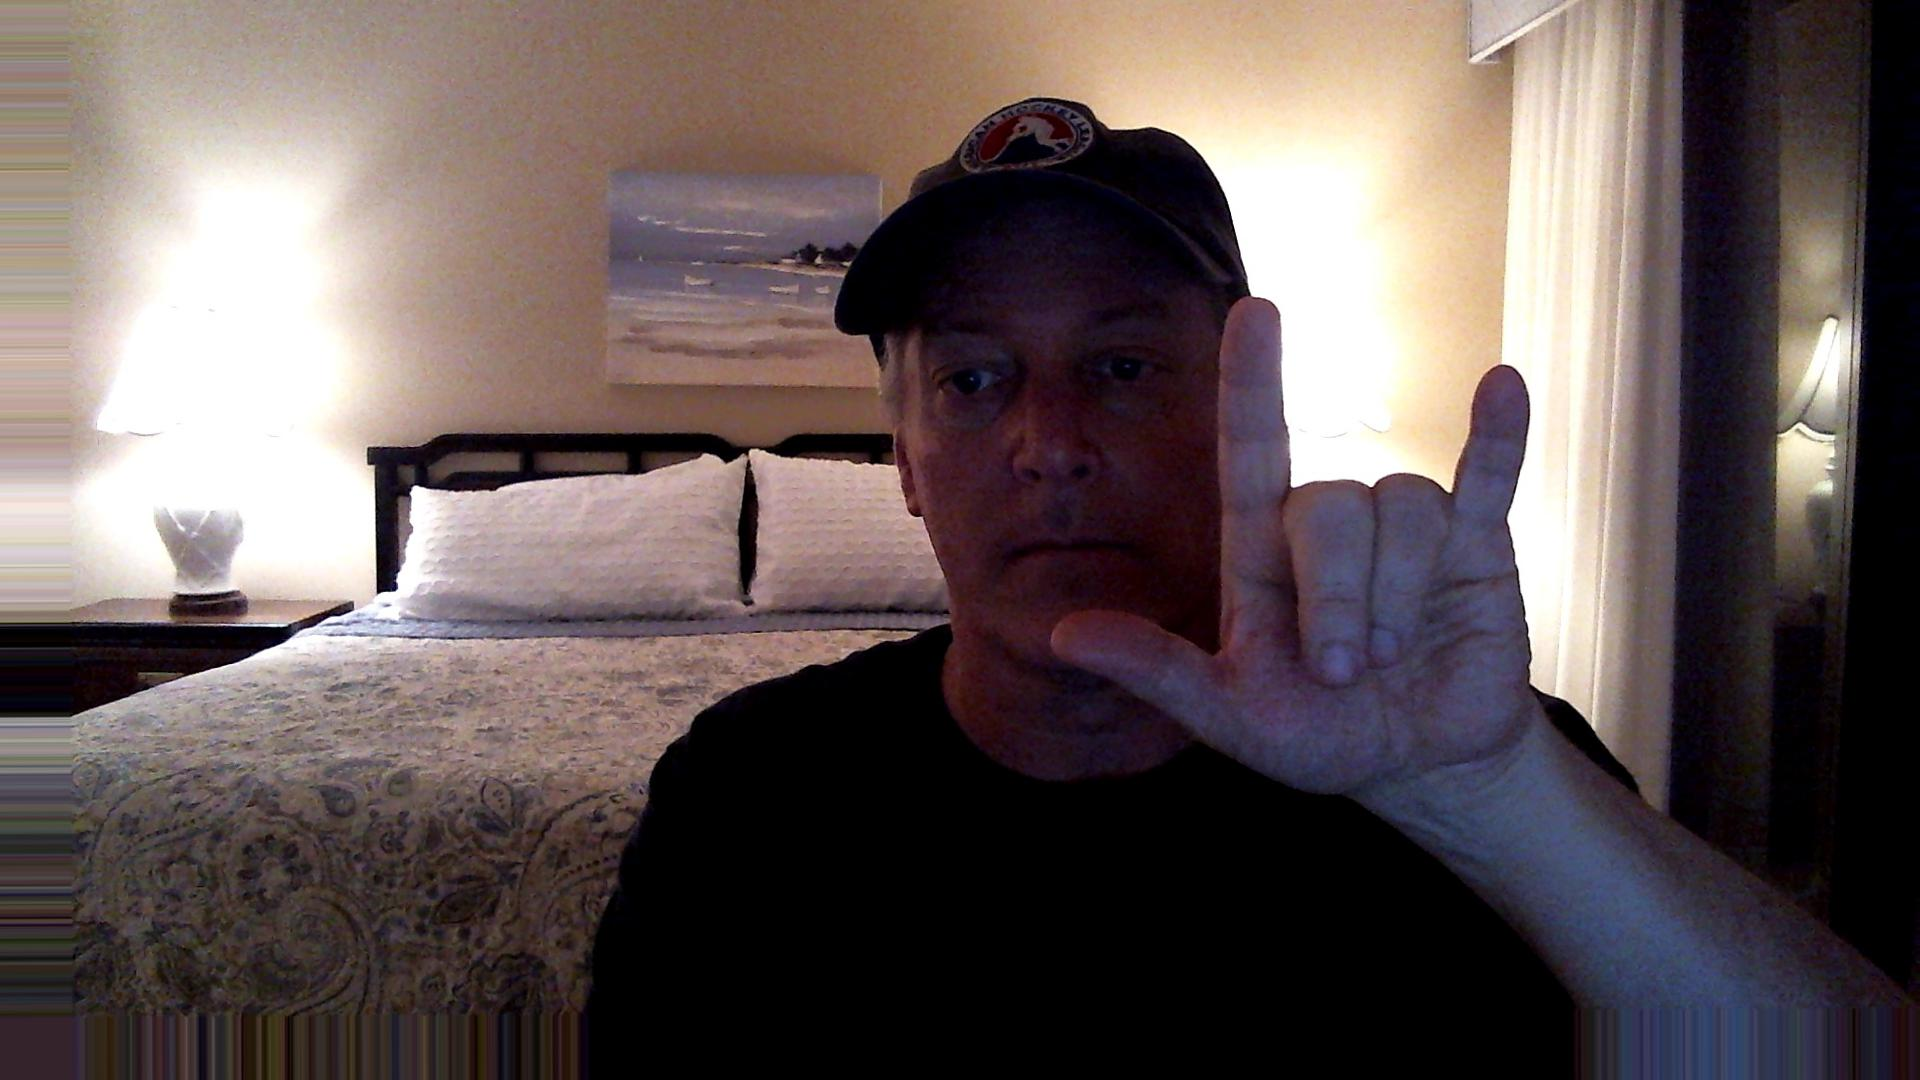I Love You: (1033, 262, 1567, 812)
